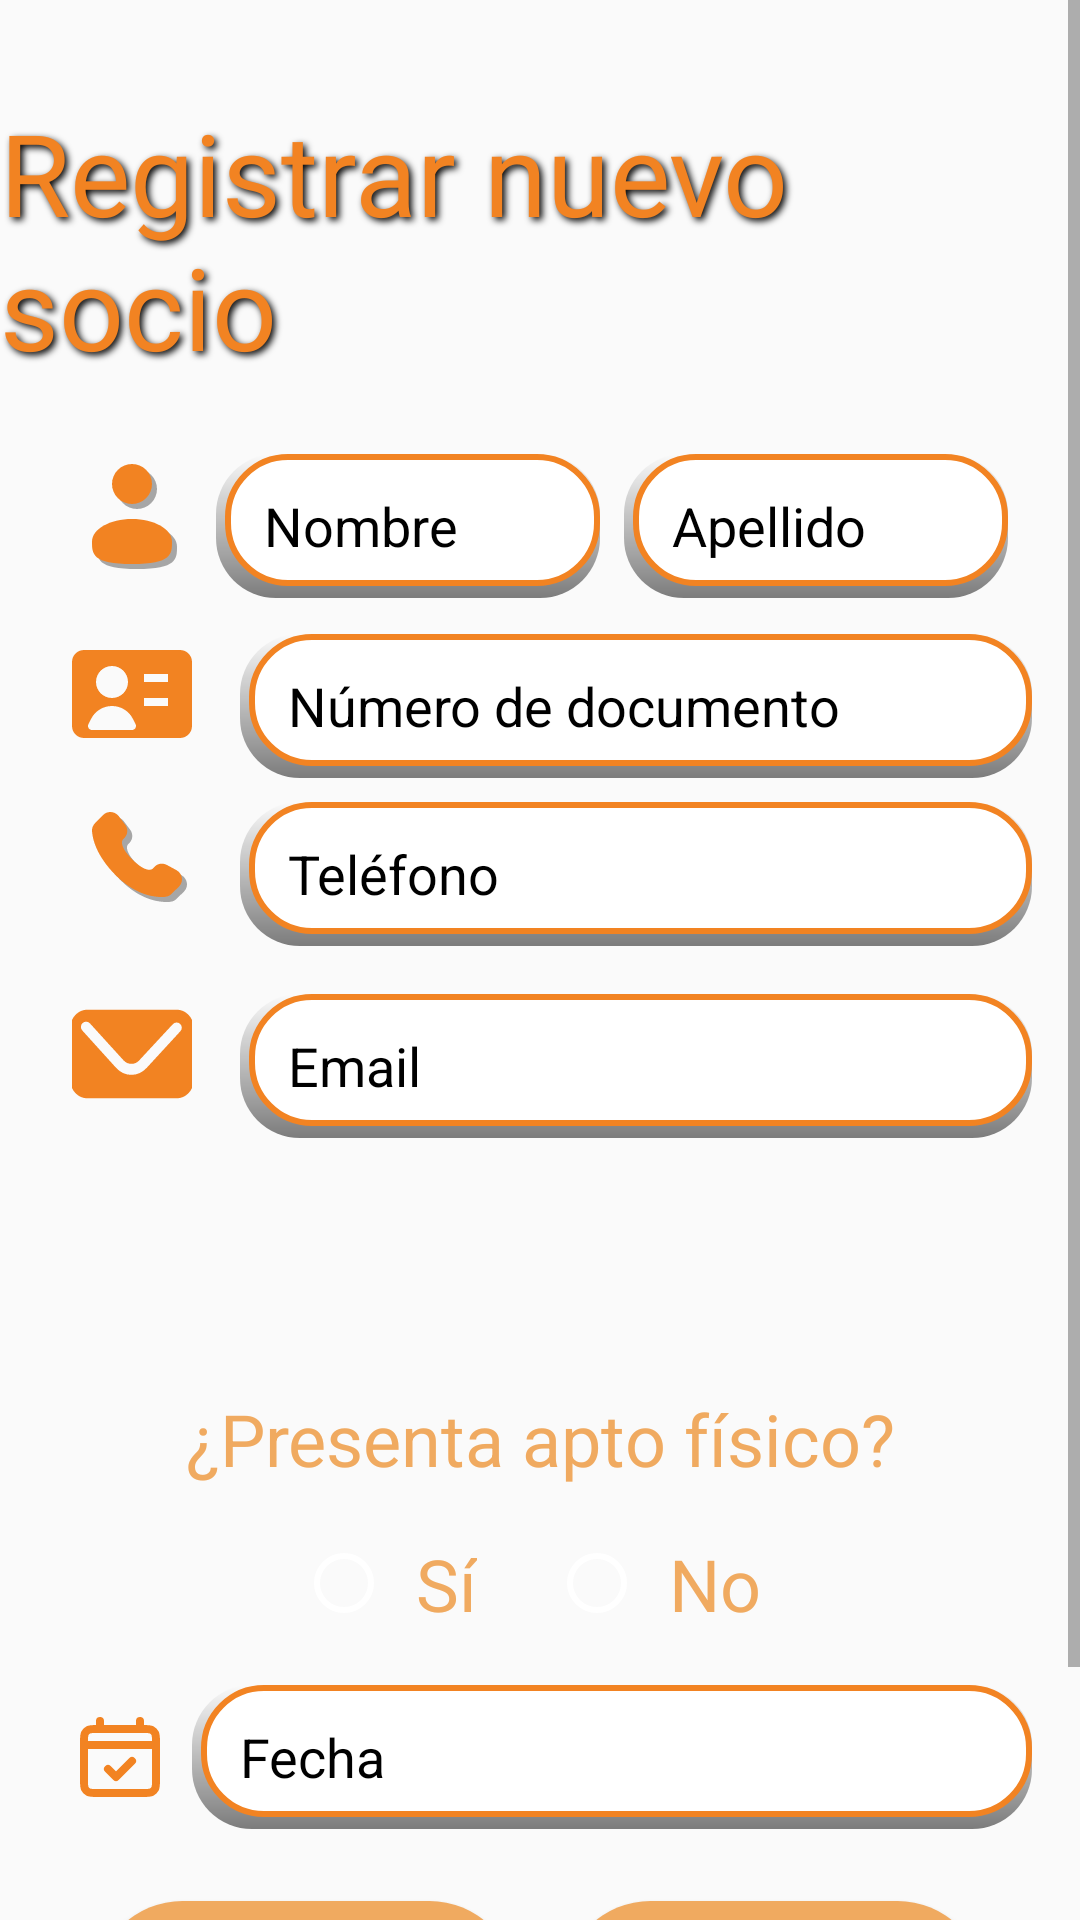

Where to tap for icons on this 1080 × 1920 app screen, as (x,y):
date: (120,1757)
user: (134,516)
